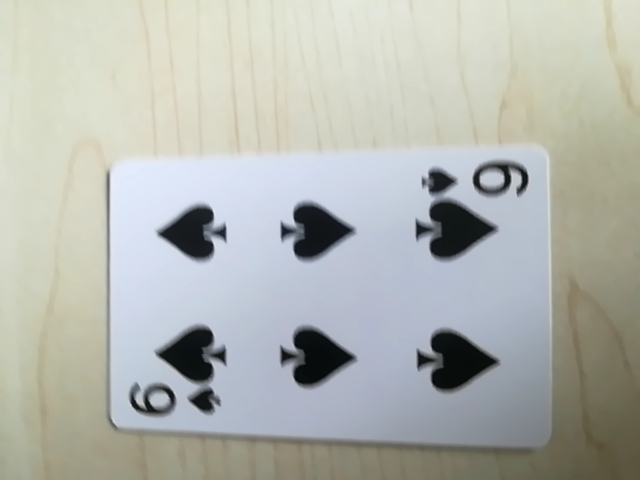ht 6: (124, 377, 226, 427), (421, 155, 534, 200)
